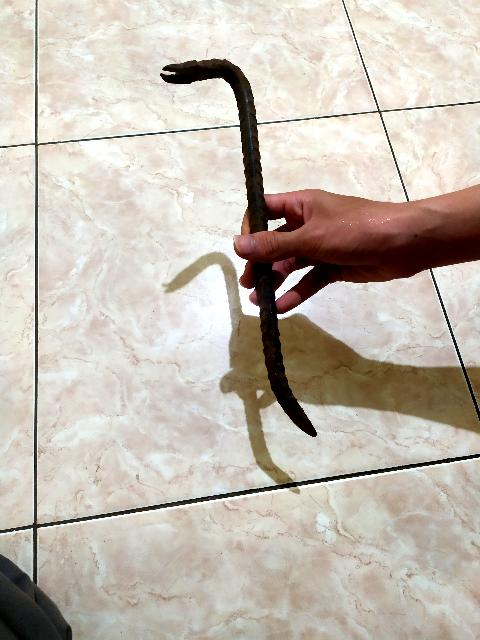crow bar: (144, 56, 334, 446)
